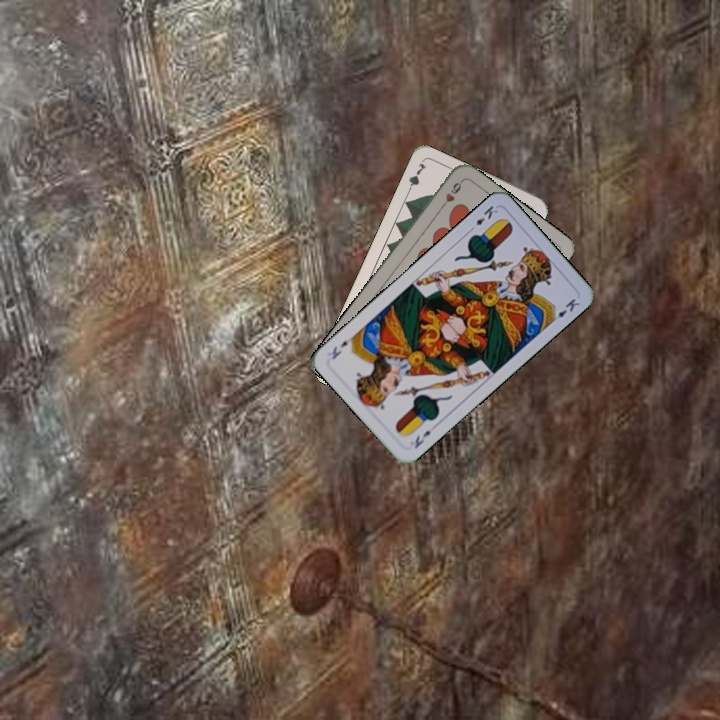EK: (465, 201, 501, 234), (410, 426, 434, 451)
G7: (403, 159, 429, 197)
H9: (436, 177, 465, 212)
